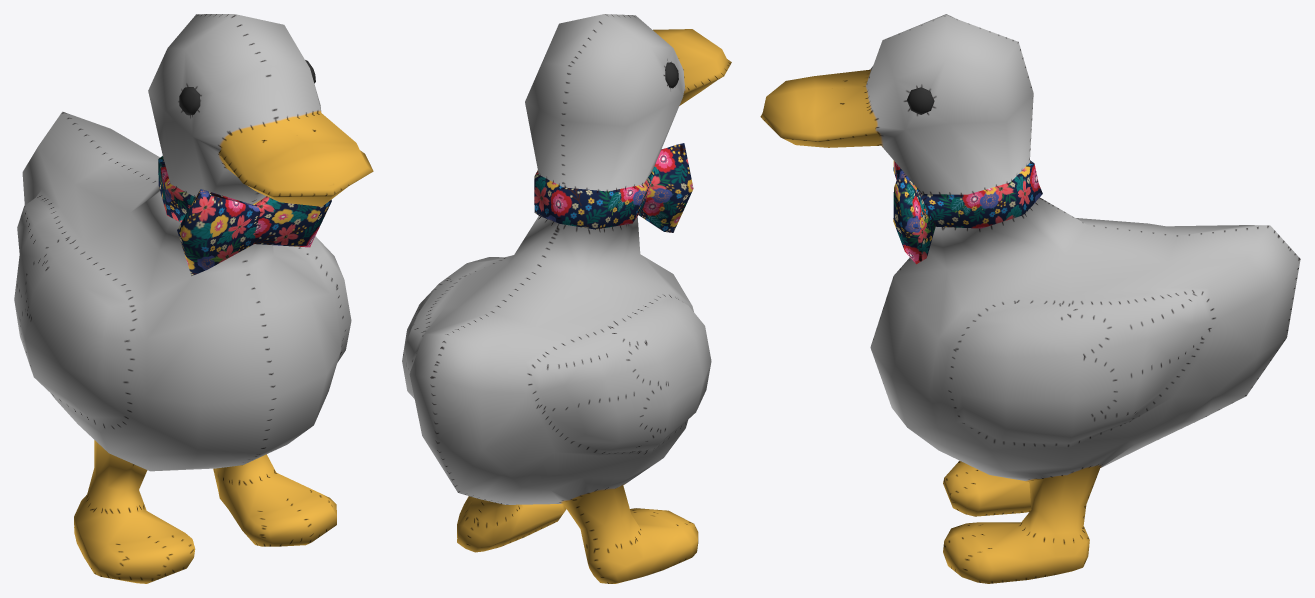
The model's file is Duck.fbx.
3 renders of one model, left to right at view 1: azimuth 30°, elevation 25°; view 2: azimuth 150°, elevation 25°; view 3: azimuth 270°, elevation 25°, orthographic. The views are drawn at different scales.
Parts seen in each view (by area): view 1: Duck; view 2: Duck; view 3: Duck.
Part boxes in pixels (x1=…): Duck: x1=14, y1=14, x2=373, y2=583; Duck: x1=402, y1=14, x2=731, y2=583; Duck: x1=760, y1=14, x2=1300, y2=583.
Size of the model in its own units: 77.79 by 148 by 138.
1 material, 1 textured.
